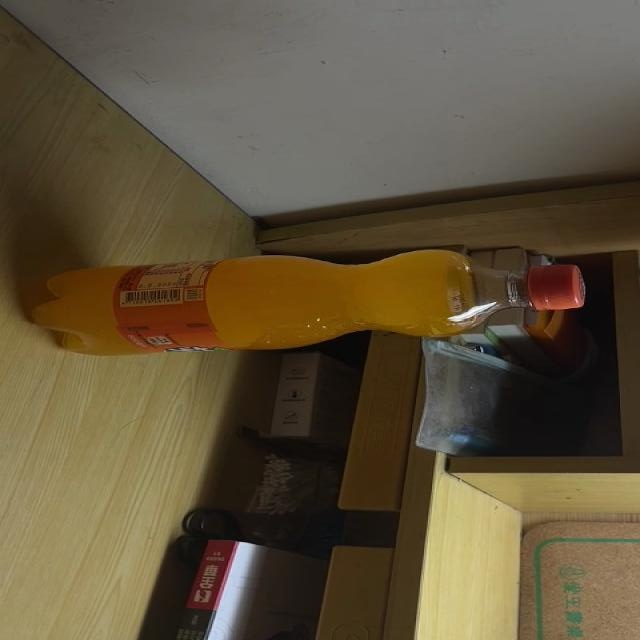Fanta: (26, 249, 588, 356)
